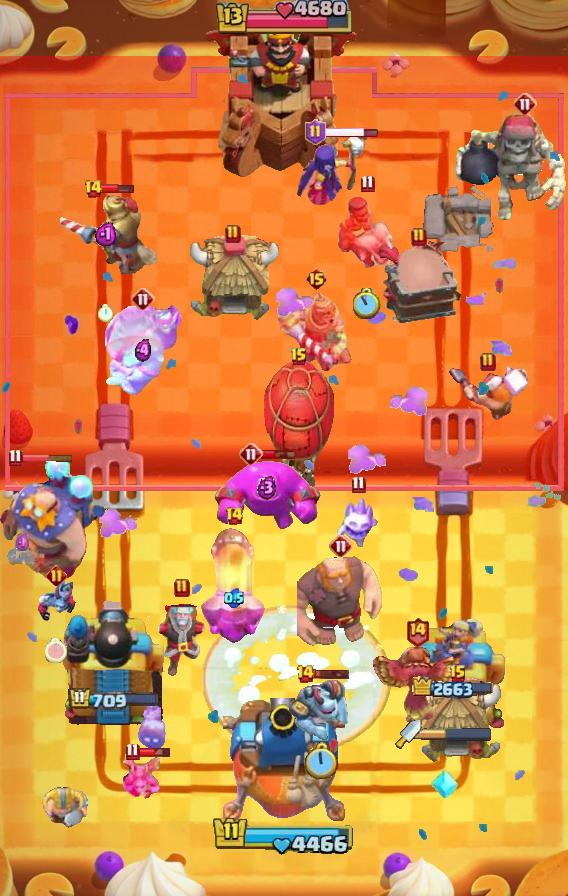axe: (295, 132, 371, 206)
balloon: (297, 552, 385, 650)
bar: (402, 615, 507, 731)
bomber: (136, 704, 168, 752)
cannon-cart: (263, 359, 335, 499)
clock: (212, 815, 356, 857), (213, 0, 355, 38)
clone: (212, 459, 322, 533)
dart-goblin: (378, 242, 463, 324)
electro-giant: (450, 112, 568, 224)
electro-spirit: (96, 222, 117, 247), (257, 476, 277, 501), (224, 588, 244, 608), (135, 338, 151, 362), (15, 532, 31, 553)
elite-barbarian: (337, 194, 397, 270)
elixir: (302, 742, 337, 782), (353, 289, 381, 320), (45, 637, 67, 662), (99, 304, 114, 322)
elixir-golem-small: (288, 676, 352, 742)
emote: (324, 125, 379, 138), (20, 454, 74, 463), (313, 668, 351, 680), (261, 448, 297, 460), (100, 183, 135, 195), (137, 746, 172, 758)
furnace: (200, 525, 268, 645)
goblin-giant: (41, 785, 89, 828)
golden-knight: (369, 646, 465, 724)
king-tower: (205, 11, 363, 181), (223, 698, 345, 826)
king-tower-bar: (421, 727, 493, 741)
lava-hound: (102, 302, 184, 398)
little-prince: (0, 454, 108, 580)
mighty-miner: (448, 366, 528, 428)
mirror: (336, 495, 380, 549)
mortar: (142, 599, 222, 677)
pad_2: (431, 767, 459, 801)
phoenix-big: (202, 606, 390, 755)
prince: (186, 233, 280, 323), (411, 675, 505, 765)
ram-rider: (52, 191, 158, 275), (277, 293, 355, 375)
royal-delivery: (34, 579, 78, 625), (123, 750, 163, 800)
selected: (68, 687, 160, 713), (413, 675, 496, 700)
text: (405, 616, 430, 647), (513, 92, 537, 116), (131, 287, 155, 311), (239, 442, 263, 466), (329, 534, 353, 558), (305, 119, 327, 145), (304, 267, 327, 291), (46, 565, 67, 587), (84, 179, 104, 199), (225, 506, 244, 526), (296, 664, 315, 684), (290, 347, 308, 367), (449, 664, 467, 684), (225, 224, 241, 244), (411, 227, 427, 247), (480, 352, 496, 372), (174, 578, 190, 598), (351, 475, 366, 494), (124, 743, 139, 762), (360, 175, 375, 193), (9, 449, 23, 468)
tower-bar: (58, 595, 170, 731)
